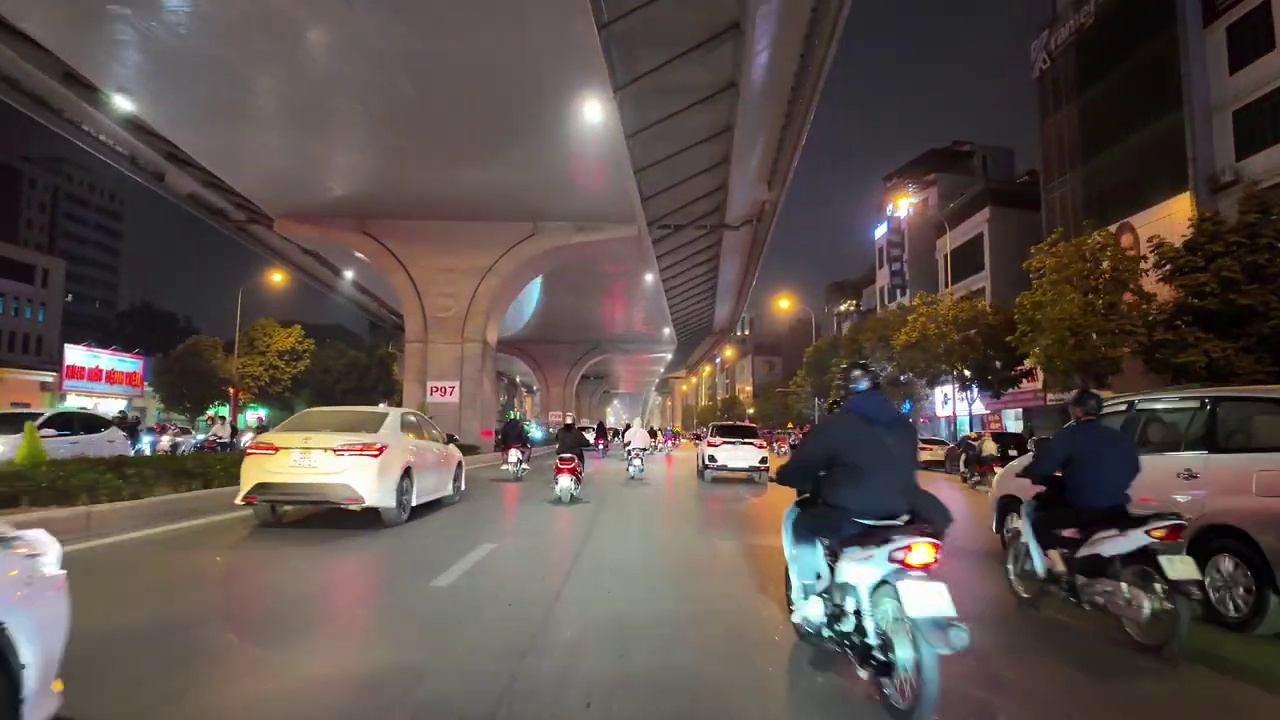acesa: (576, 96, 611, 132), (886, 189, 921, 219), (106, 88, 139, 118), (768, 290, 798, 318), (262, 266, 290, 291), (639, 270, 659, 292)
